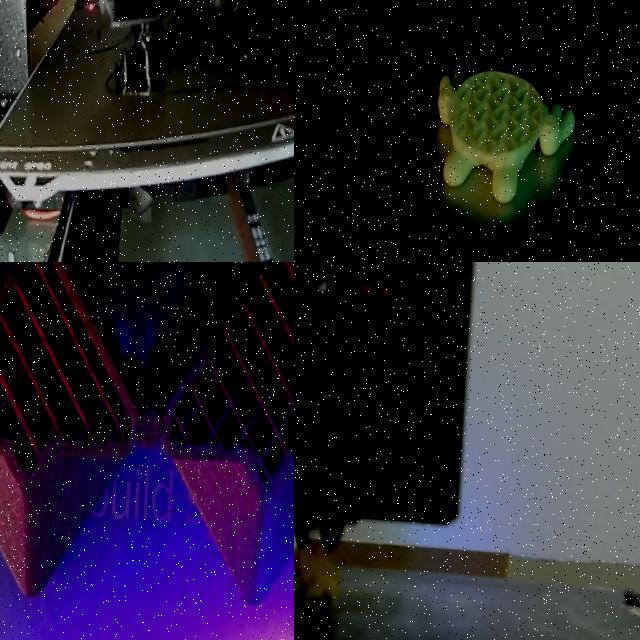spaghetti: (294, 540, 337, 604)
